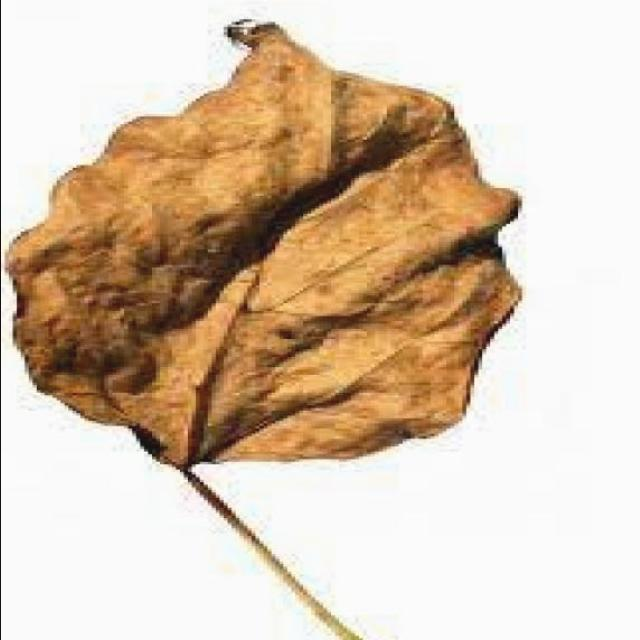leaf: (5, 17, 523, 470)
